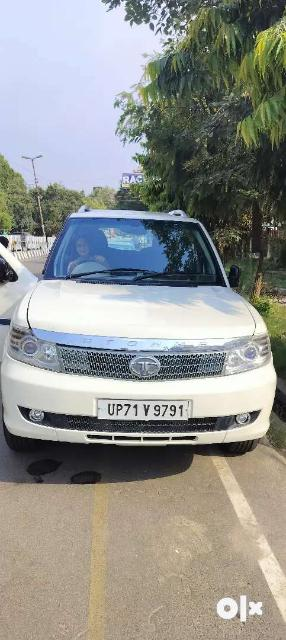Indian_Number_Plate: (97, 398, 191, 422)
